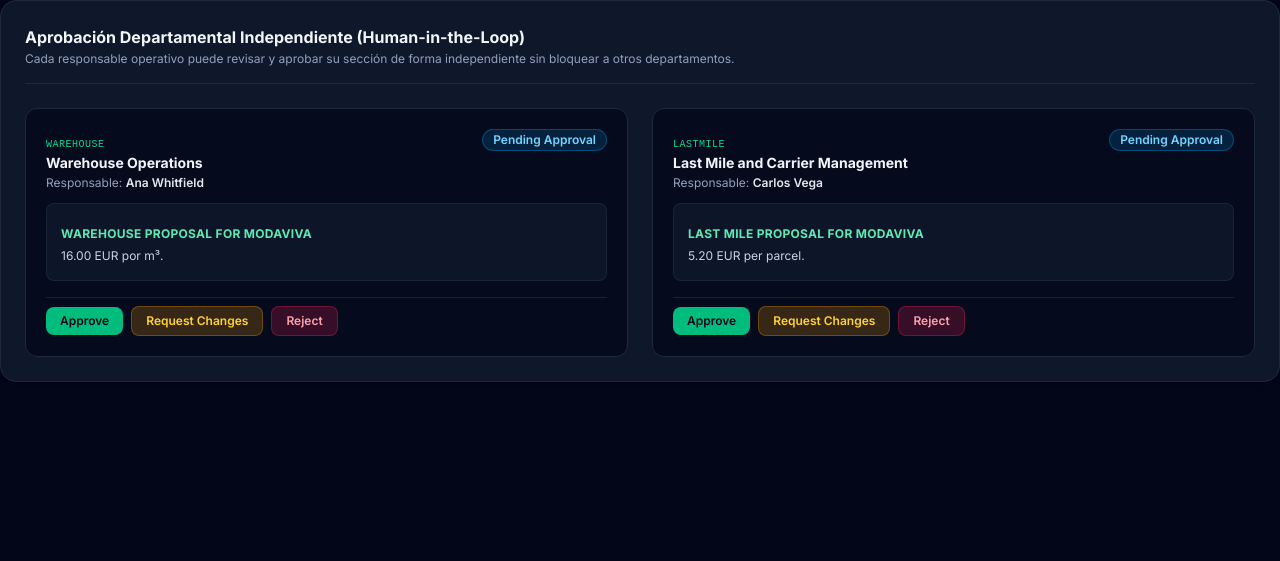
Test case: DepartmentApprovalPanel Component Tests (T028, T029 - User Story 4) › T030: enforces non-empty feedback when reject is clicked
// First click reveals feedback textarea and shows mandatory reject feedback message without submitting
Step 1. Click the button with test id "reject-btn-warehouse" → (304, 320), box [271,306,338,336]
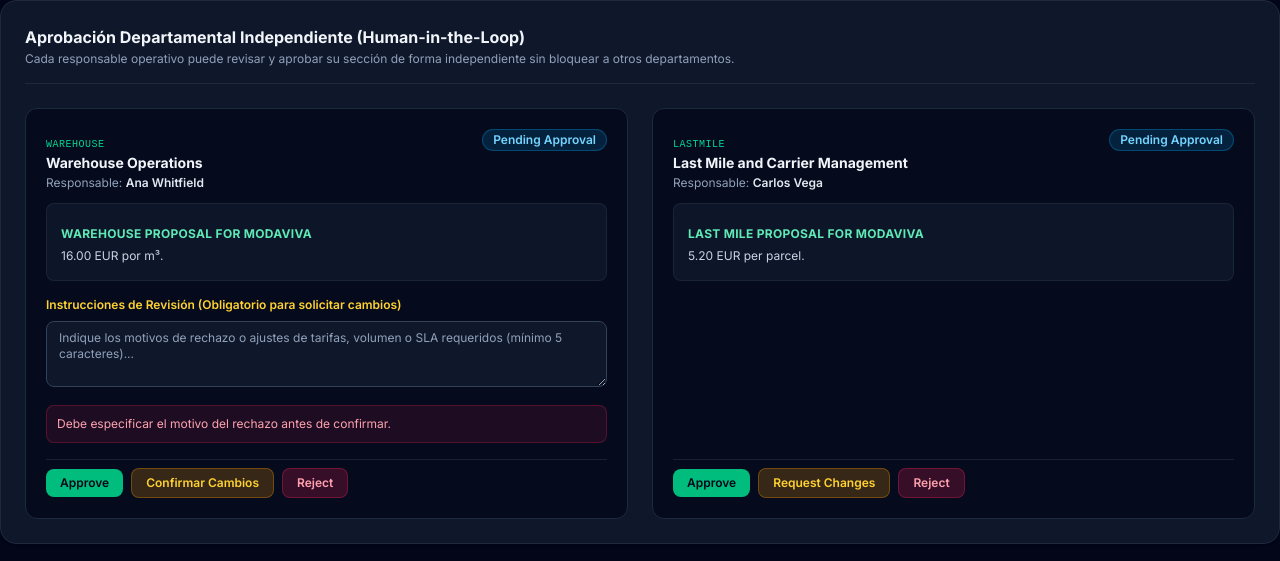
Now the message with test id "validation-error-warehouse" shows "motivo del rechazo", box [57,416,391,430]
Now the text box with test id "feedback-textarea-warehouse" is shown, box [46,320,607,386]
